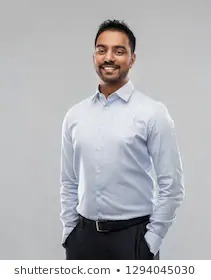F_belt: (72, 207, 155, 231)
F_shirt: (57, 80, 186, 256)
